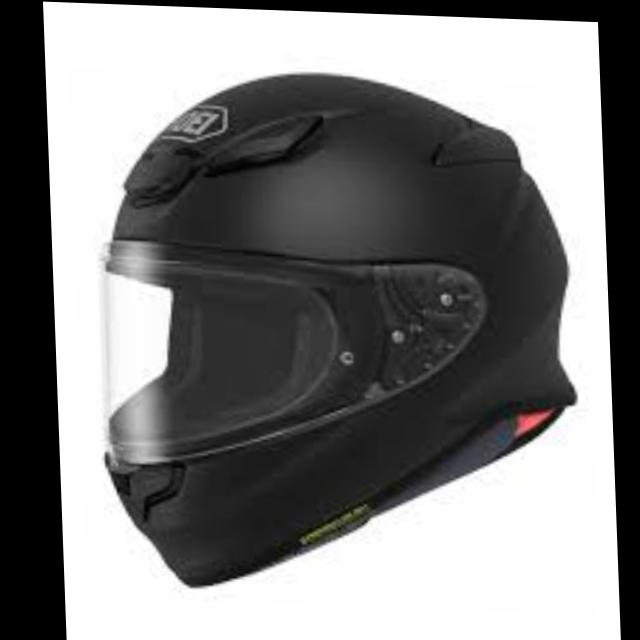motorcycle-helmets: (104, 74, 574, 585)
